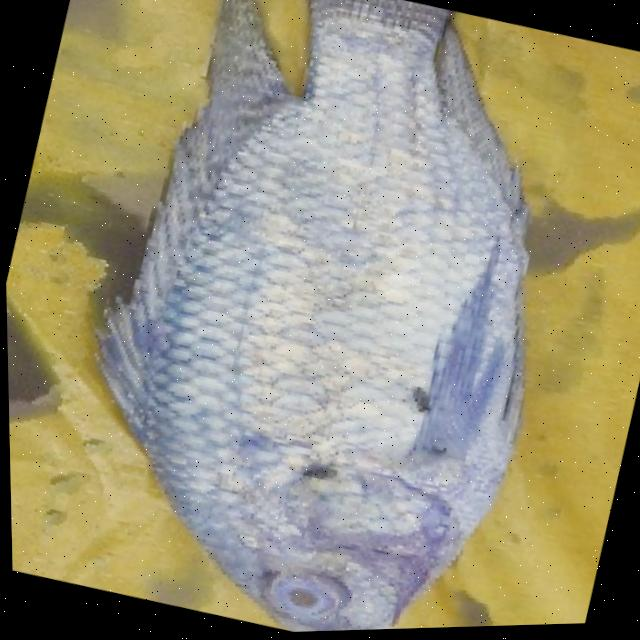Non-Fresh: (79, 96, 575, 638), (248, 546, 369, 634)
